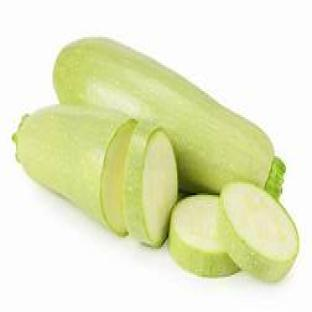Zucchini: (54, 39, 284, 196), (14, 106, 136, 235), (218, 182, 298, 282), (124, 121, 178, 246), (169, 195, 238, 276)
